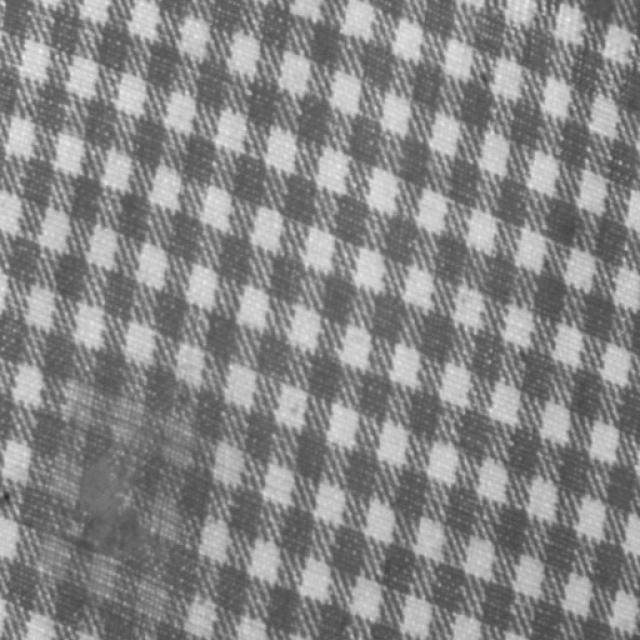Stain-Defect: (42, 382, 195, 621)
